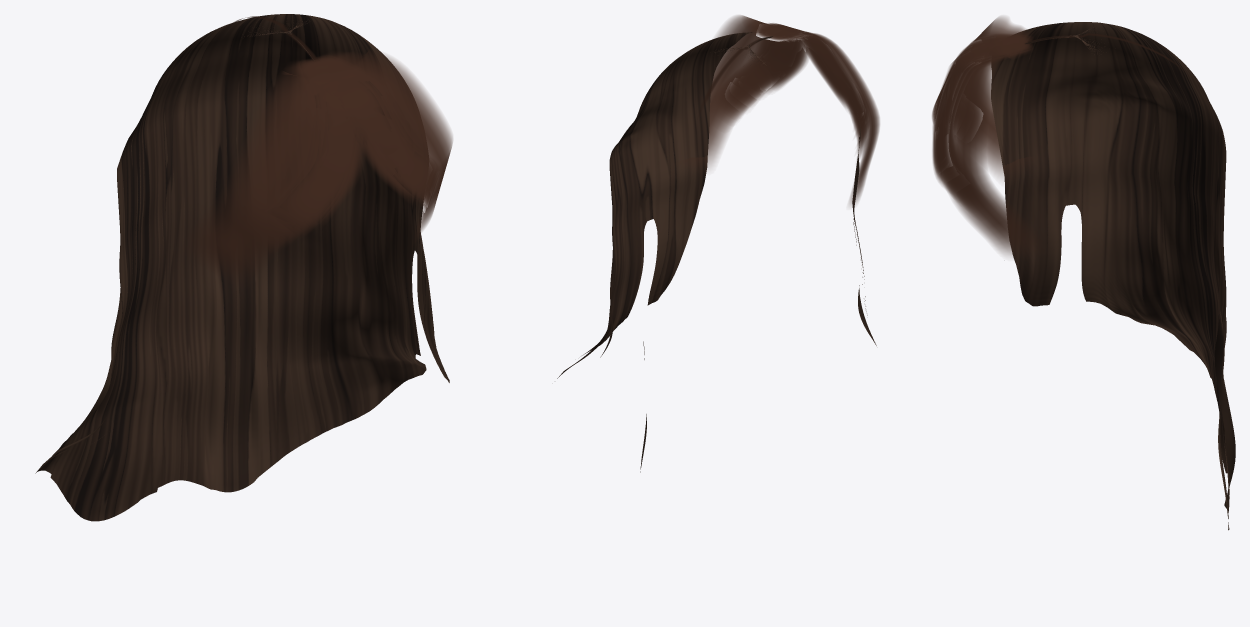
File: warden.hair.glb
3 views of the same model, side by side, from view 1: azimuth 30°, elevation 25°; view 2: azimuth 150°, elevation 25°; view 3: azimuth 270°, elevation 25° (orthographic). The views are drawn at different scales.
Visible parts, largest first — view 1: hair cut, hair veil; view 2: hair cut, hair veil; view 3: hair cut, hair veil.
Boxes of the visible parts, x1,y1,x2,y2 form: hair cut: (35, 14, 449, 521); hair veil: (188, 16, 452, 282); hair cut: (557, 32, 876, 472); hair veil: (680, 15, 879, 205); hair cut: (991, 22, 1235, 530); hair veil: (932, 16, 1183, 256).
Bounding box in the file's own units: 11.87 × 17.12 × 8.44.
2 materials, 1 textured.
